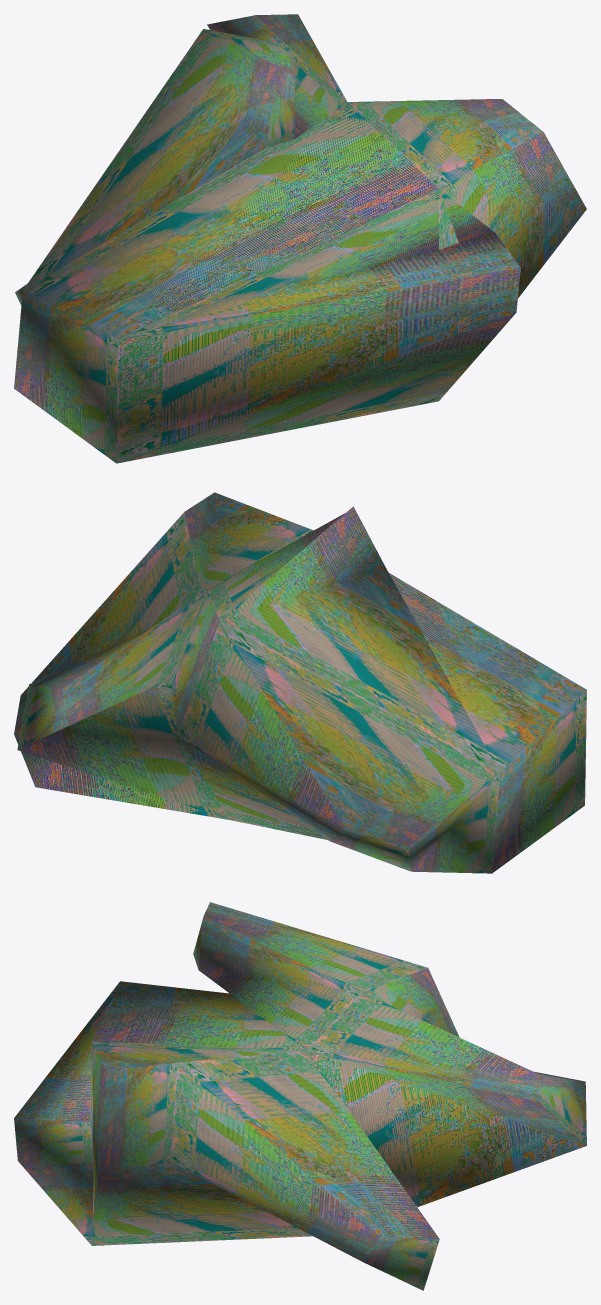
Rendered from metamaterial.glb.
The picture shows the model from 3 angles, top to bottom: view 1: azimuth 30°, elevation 25°; view 2: azimuth 150°, elevation 25°; view 3: azimuth 270°, elevation 25°; orthographic projection. The views are drawn at different scales.
Visible parts, largest first — view 1: Generated Shape.002; view 2: Generated Shape.002; view 3: Generated Shape.002.
Part boxes in pixels (left/top/right/bottom): Generated Shape.002: left=14, top=14, right=586, bottom=463; Generated Shape.002: left=14, top=492, right=586, bottom=873; Generated Shape.002: left=14, top=902, right=586, bottom=1290.
Bounding box in the file's own units: 5.32 × 3.23 × 5.57.
Materials: 1 (1 with a texture image).
